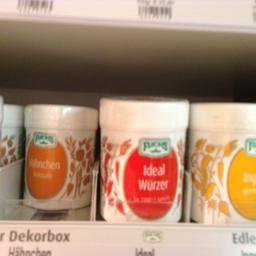spices: (97, 94, 190, 223), (188, 100, 254, 222), (22, 103, 95, 209)
